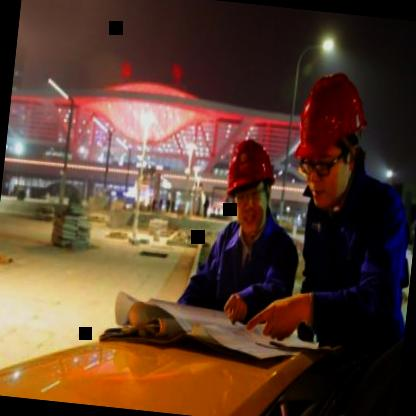helmet: (286, 57, 378, 206), (216, 132, 280, 237)
